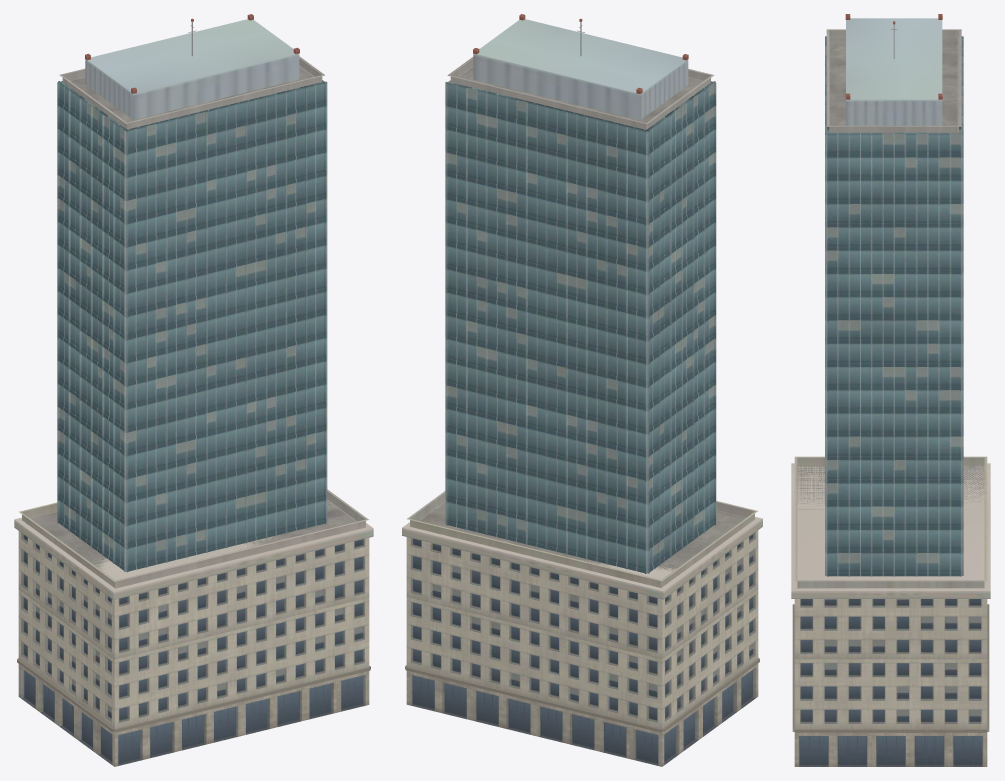
Rendered from tokyo_glassslab_b.glb.
3 renders of one model, left to right at view 1: azimuth 30°, elevation 25°; view 2: azimuth 150°, elevation 25°; view 3: azimuth 270°, elevation 25°, orthographic.
Parts seen in each view (by area): view 1: tokyo_glassslab_b; view 2: tokyo_glassslab_b; view 3: tokyo_glassslab_b.
Boxes of the visible parts, bbox=[...] form: tokyo_glassslab_b: bbox=[14, 14, 373, 766]; tokyo_glassslab_b: bbox=[402, 14, 762, 766]; tokyo_glassslab_b: bbox=[791, 14, 990, 766].
Size of the model in its own units: 47.01 by 117 by 31.
1 material, 1 textured.
